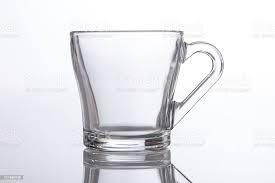glass: (58, 15, 217, 166)
